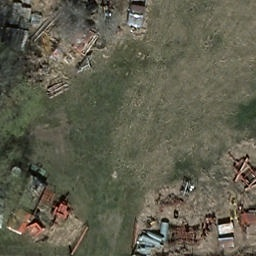car: (0, 180, 8, 229)
pickup: (125, 0, 151, 29)
truck: (6, 169, 53, 235)
